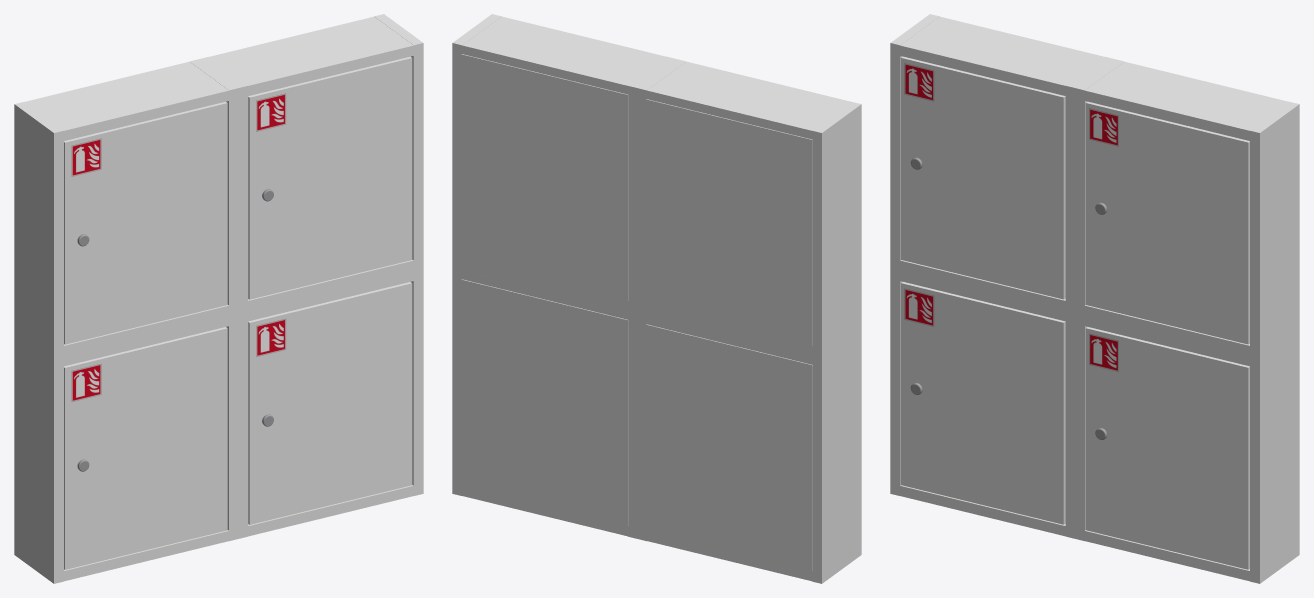
File: FourFirecase.glb
The picture shows the model from 3 angles, left to right: view 1: azimuth 30°, elevation 25°; view 2: azimuth 150°, elevation 25°; view 3: azimuth 330°, elevation 25°; orthographic projection.
Parts seen in each view (by area): view 1: Box 3 (×4), Box 4 (×4), Box 5 (×4), Box 2 (×4), Box 1 (×4), firecase-removebg-preview 1 (×4); view 2: Box 6 (×4), Box 4 (×4), Box 5 (×4), Box 2 (×4), Box 1 (×4); view 3: Box 3 (×4), Box 2 (×4), Box 5 (×4), Box 4 (×4), Box 1 (×4), firecase-removebg-preview 1 (×4).
Part boxes in pixels (<box>): Box 3 (×4): <box>64,56,412,569</box>; Box 4 (×4): <box>14,56,248,583</box>; Box 5 (×4): <box>25,16,414,366</box>; Box 2 (×4): <box>190,14,423,541</box>; Box 1 (×4): <box>63,260,414,581</box>; firecase-removebg-preview 1 (×4): <box>71,93,285,401</box>; Box 6 (×4): <box>461,54,812,571</box>; Box 4 (×4): <box>627,56,861,583</box>; Box 5 (×4): <box>462,16,851,364</box>; Box 2 (×4): <box>452,14,685,541</box>; Box 1 (×4): <box>462,260,811,581</box>; Box 3 (×4): <box>901,56,1249,569</box>; Box 2 (×4): <box>1065,56,1299,583</box>; Box 5 (×4): <box>899,16,1288,366</box>; Box 4 (×4): <box>890,14,1123,541</box>; Box 1 (×4): <box>899,260,1250,581</box>; firecase-removebg-preview 1 (×4): <box>904,63,1118,371</box>.
Bounding box in the file's own units: 0.0241 × 0.0281 × 0.0048.
Materials: 32 (4 with a texture image).
